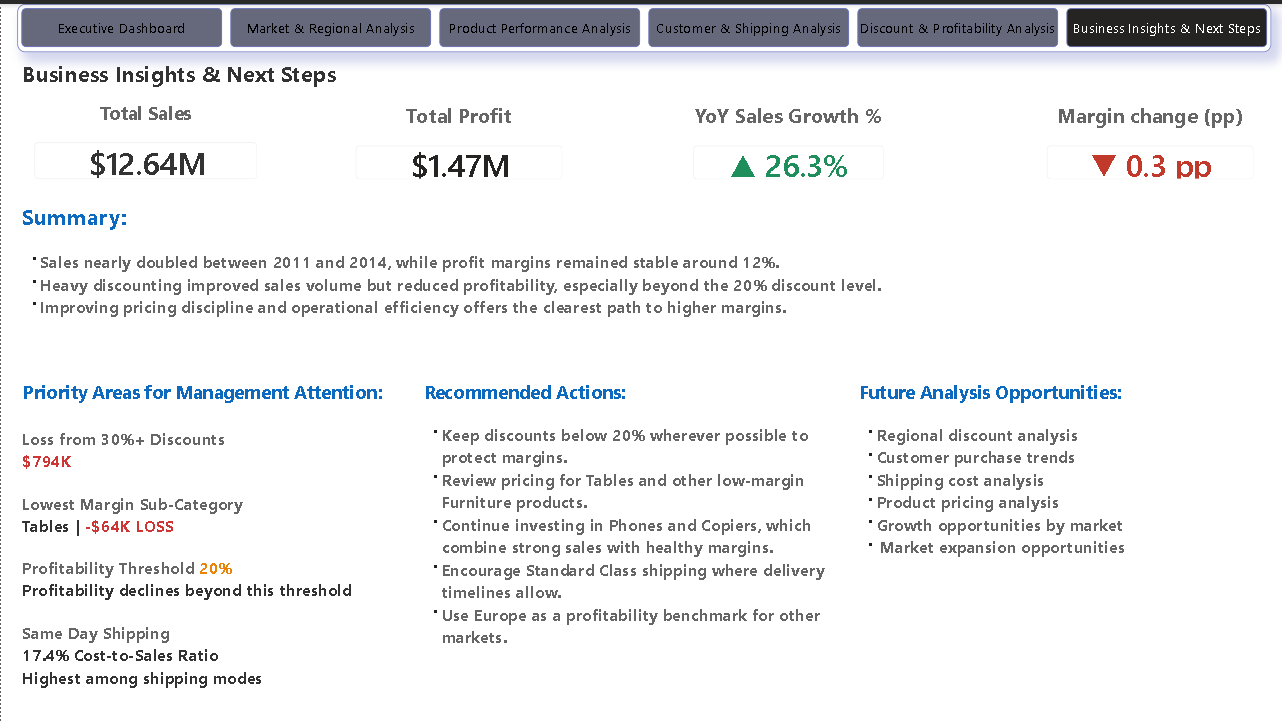

The dashboard page shown, as its layout file describes it:
{"tool":"powerbi","page":{"name":"Business Insights & Next Steps","canvas":[1280,720],"ordinal":5},"visuals":[{"type":"textbox","box":[16,48,512,48],"z":0},{"type":"textbox","box":[16,192,1248,160],"z":1000},{"type":"textbox","box":[416,368,432,352],"z":2000},{"type":"textbox","box":[848,368,416,352],"z":3000},{"type":"cardVisual","title":"Total Sales","fields":{"Data":["in.Total sales"]},"box":[16,96,256,96],"z":4000},{"type":"cardVisual","title":"Total Profit","fields":{"Data":["in.Total Profit"]},"box":[336,96,240,96],"z":5000},{"type":"cardVisual","title":"YoY Sales Growth %","fields":{"Data":["in.YoY Sales Growth Display"]},"box":[672,96,224,96],"z":6000},{"type":"cardVisual","title":"Margin change (pp)","fields":{"Data":["in.Profit Margin Change Display"]},"box":[1024,96,240,96],"z":7000},{"type":"pageNavigator","box":[16,0,1248,48],"z":8000},{"type":"textbox","box":[16,480,336,64],"z":9000},{"type":"textbox","box":[16,544,384,64],"z":10000},{"type":"textbox","box":[16,608,384,80],"z":11000},{"type":"textbox","box":[16,416,304,64],"z":12000},{"type":"textbox","box":[16,368,384,48],"z":13000}]}

Visuals, with their boxes in screenshot pixels (x1, y1, x2, y2), scaled from the page's 1280x720 canvas onto the 1282x723 screenshot:
textbox: BBox(16, 48, 529, 96)
textbox: BBox(16, 193, 1266, 353)
textbox: BBox(417, 370, 849, 722)
textbox: BBox(849, 370, 1266, 722)
"Total Sales" cardVisual: BBox(16, 96, 272, 193)
"Total Profit" cardVisual: BBox(337, 96, 577, 193)
"YoY Sales Growth %" cardVisual: BBox(673, 96, 897, 193)
"Margin change (pp)" cardVisual: BBox(1026, 96, 1266, 193)
pageNavigator: BBox(16, 0, 1266, 48)
textbox: BBox(16, 482, 353, 546)
textbox: BBox(16, 546, 401, 611)
textbox: BBox(16, 611, 401, 691)
textbox: BBox(16, 418, 320, 482)
textbox: BBox(16, 370, 401, 418)
